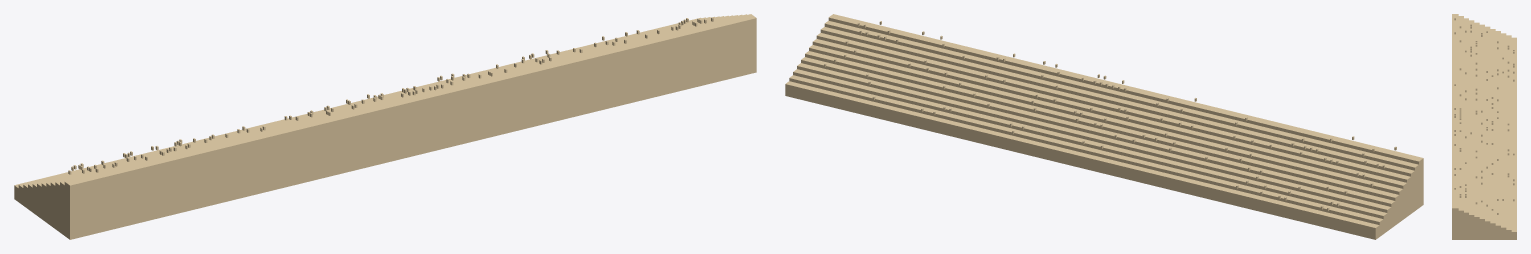
The model's file is SM_DK_05_Grandstand_steps_seating_and_crowd_cream.fbx.
3 views of the same model, side by side, from view 1: azimuth 30°, elevation 25°; view 2: azimuth 150°, elevation 25°; view 3: azimuth 270°, elevation 25° (orthographic). The views are drawn at different scales.
Visible parts, largest first — view 1: 05 Grandstand steps seating and crowd | cream; view 2: 05 Grandstand steps seating and crowd | cream; view 3: 05 Grandstand steps seating and crowd | cream.
Boxes of the visible parts, <box> form: 05 Grandstand steps seating and crowd | cream: <box>14,14,756,239</box>; 05 Grandstand steps seating and crowd | cream: <box>785,14,1423,239</box>; 05 Grandstand steps seating and crowd | cream: <box>1452,14,1516,239</box>.
Size of the model in its own units: 7800 by 1100 by 671.
